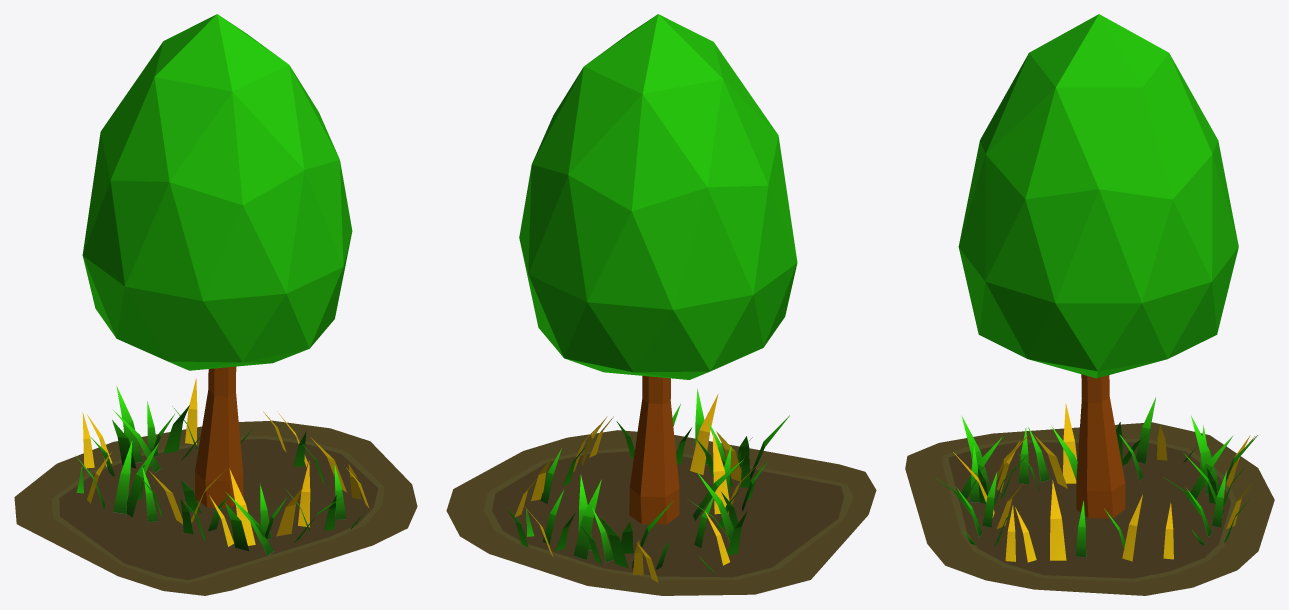
Rendered from Tree3.glb.
3 renders of one model, left to right at view 1: azimuth 30°, elevation 25°; view 2: azimuth 150°, elevation 25°; view 3: azimuth 270°, elevation 25°, orthographic. The views are drawn at different scales.
Parts seen in each view (by area): view 1: Tree3; view 2: Tree3; view 3: Tree3.
Part boxes in pixels (left/top/right/bottom): Tree3: left=14, top=14, right=417, bottom=595; Tree3: left=446, top=14, right=876, bottom=595; Tree3: left=905, top=14, right=1274, bottom=595.
Size of the model in its own units: 1.13 by 1.5 by 1.02.
Materials: 2 (2 with a texture image).
